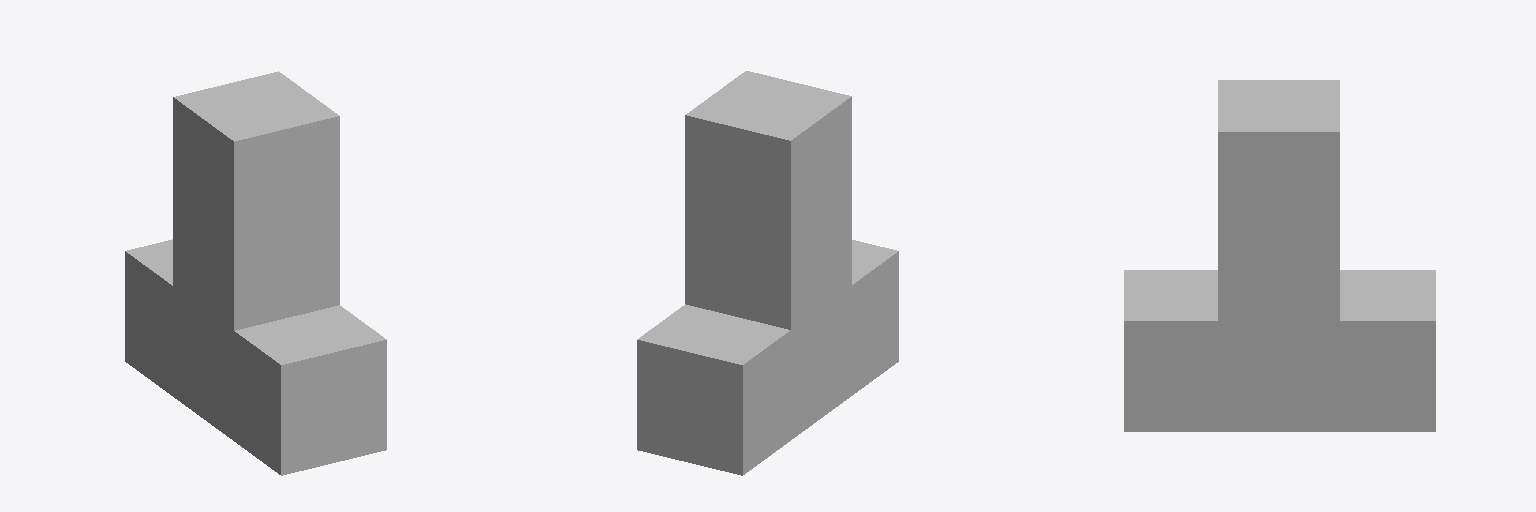
File: nonconvex.obj
3 views of the same model, side by side, from view 1: azimuth 30°, elevation 25°; view 2: azimuth 150°, elevation 25°; view 3: azimuth 270°, elevation 25° (orthographic).
Visible parts, largest first — view 1: Cube_Cube.001; view 2: Cube_Cube.001; view 3: Cube_Cube.001.
Boxes of the visible parts, x1,y1,x2,y2 form: Cube_Cube.001: [125, 71, 386, 475]; Cube_Cube.001: [637, 71, 898, 475]; Cube_Cube.001: [1124, 80, 1435, 431].
Size of the model in its own units: 2 by 5.42 by 5.12.